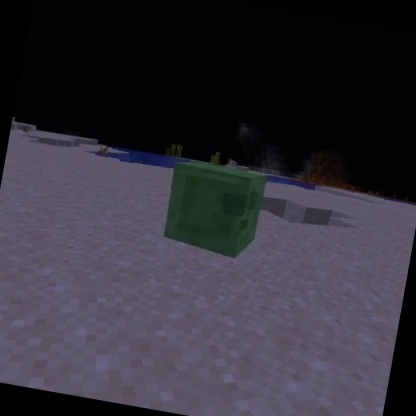slime: (156, 155, 273, 265)
